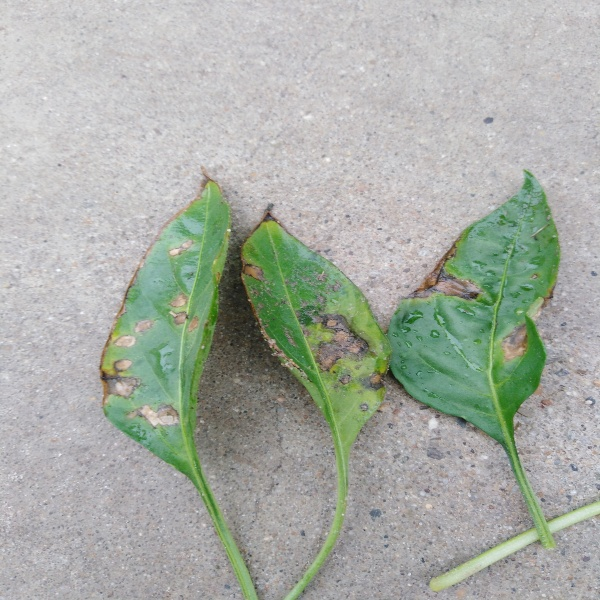Anthrax: (103, 235, 219, 435), (239, 263, 384, 413), (403, 232, 554, 365)
